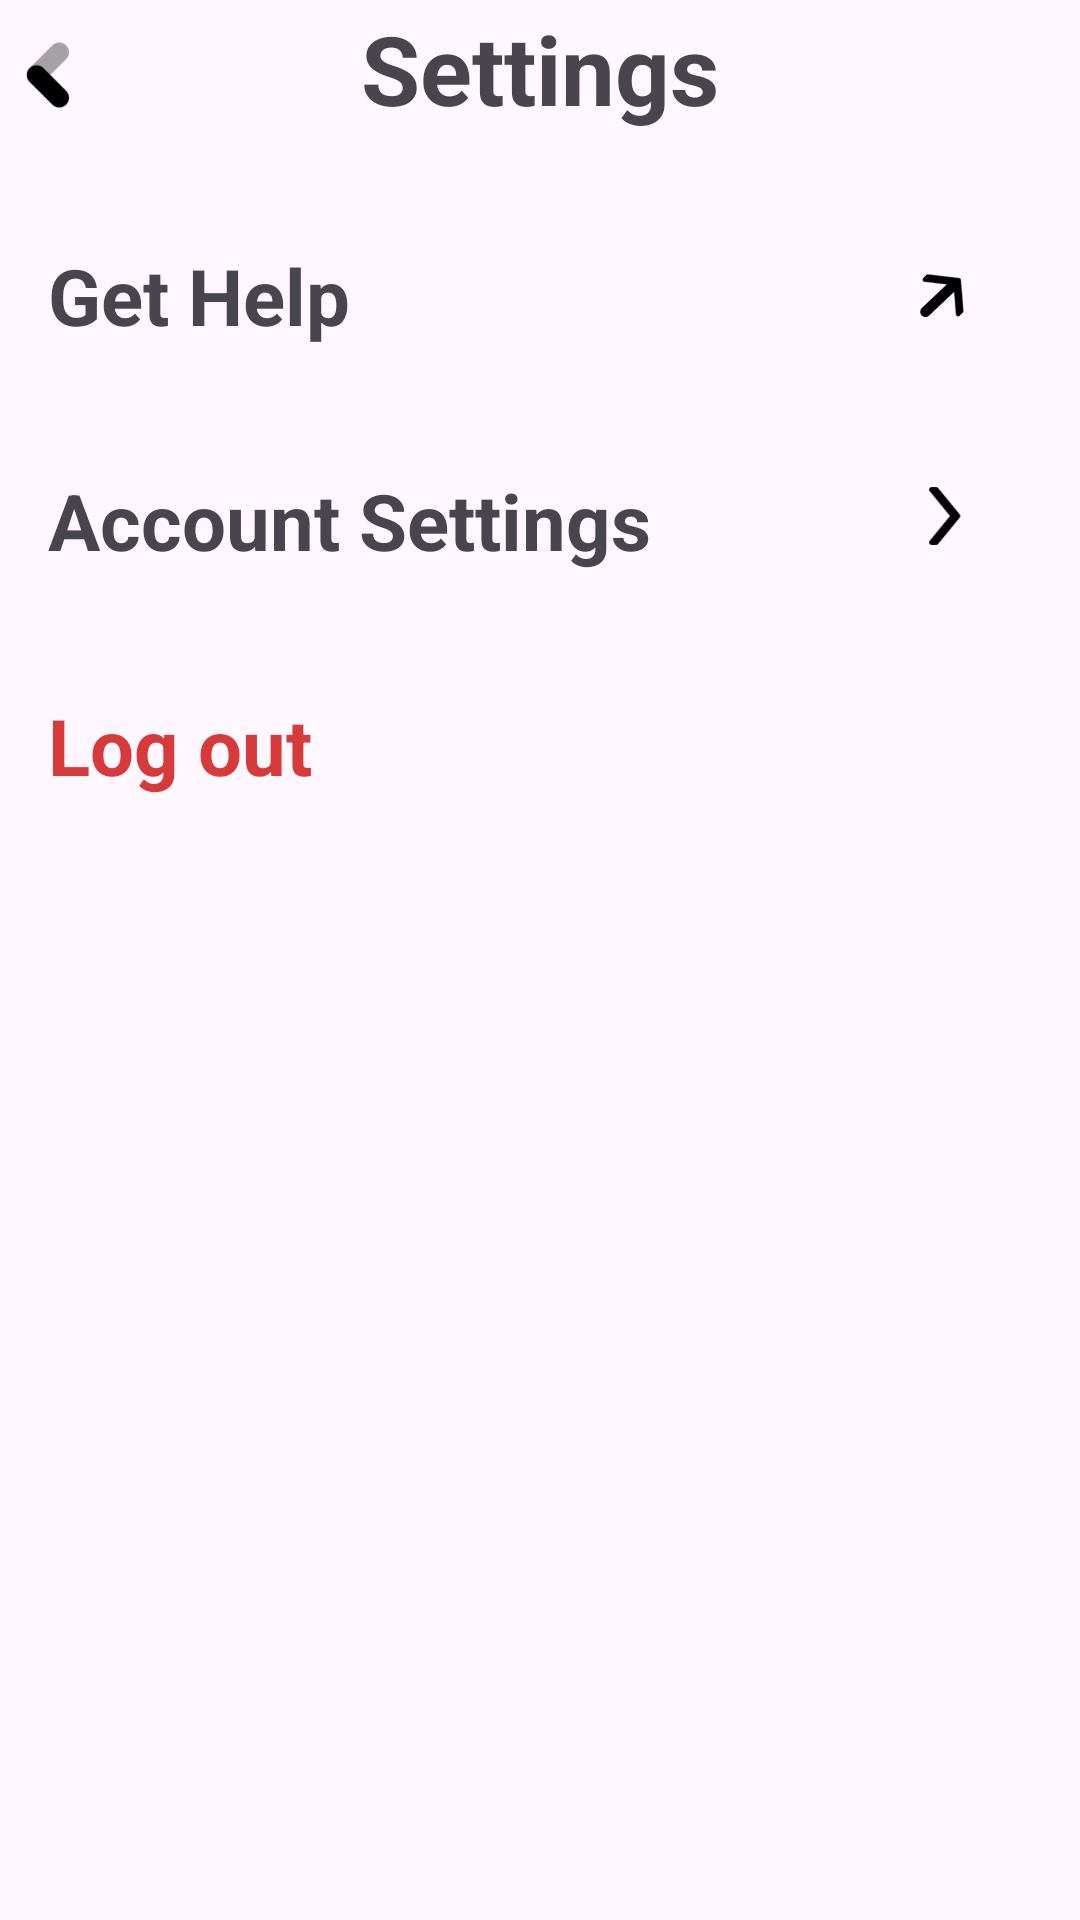

Where icons sit on this 1080px x 1920px app screen, as {"left": x1, "top": y1, "right": x2, "bottom": y2}:
backbtn: {"left": 26, "top": 42, "right": 69, "bottom": 108}
goarrowpng: {"left": 929, "top": 487, "right": 961, "bottom": 545}
redirectarrow: {"left": 920, "top": 274, "right": 964, "bottom": 317}
